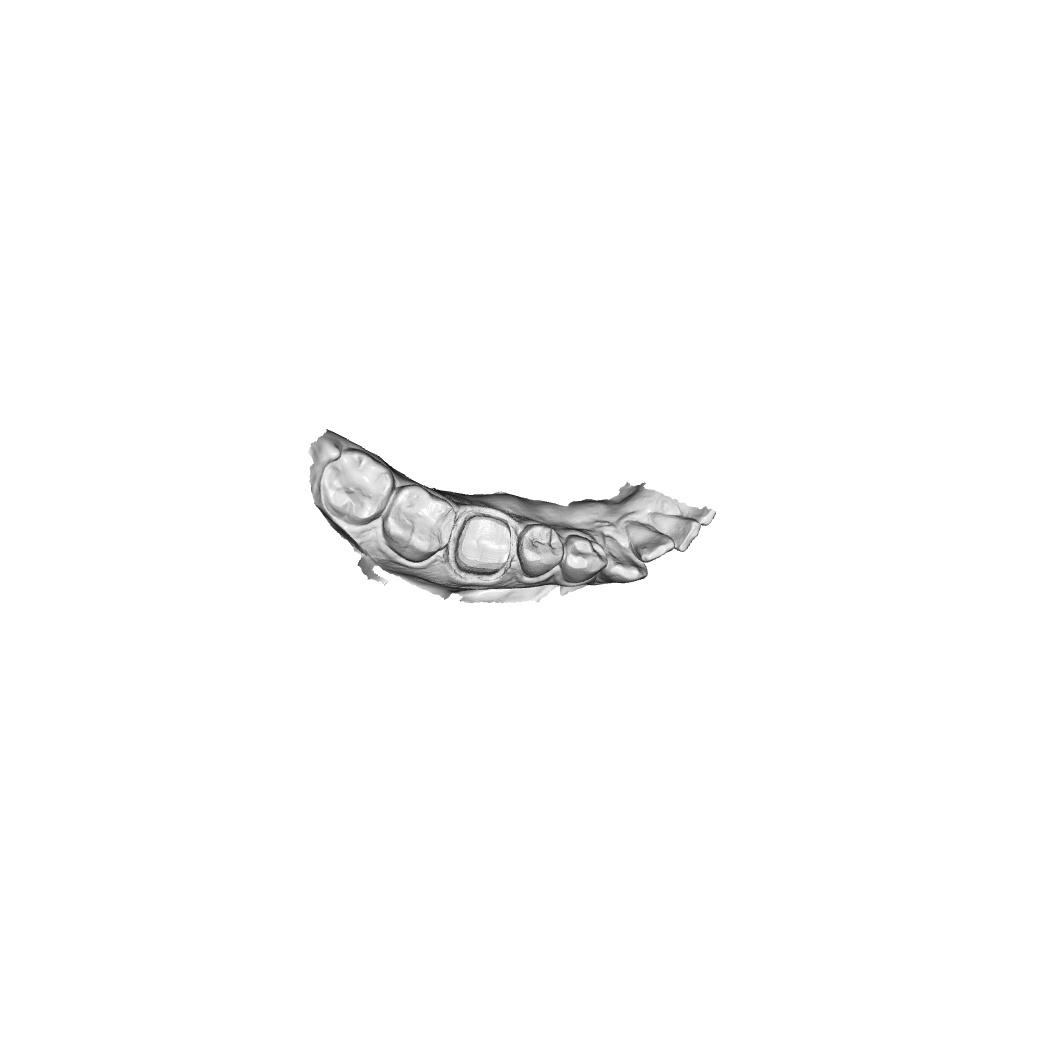canine: (590, 531, 649, 585)
crown: (451, 512, 515, 577)
incisor: (624, 519, 675, 562), (648, 511, 701, 552)
molar: (317, 447, 396, 526), (380, 483, 456, 563)
premolar: (516, 523, 565, 580), (559, 534, 609, 584)
